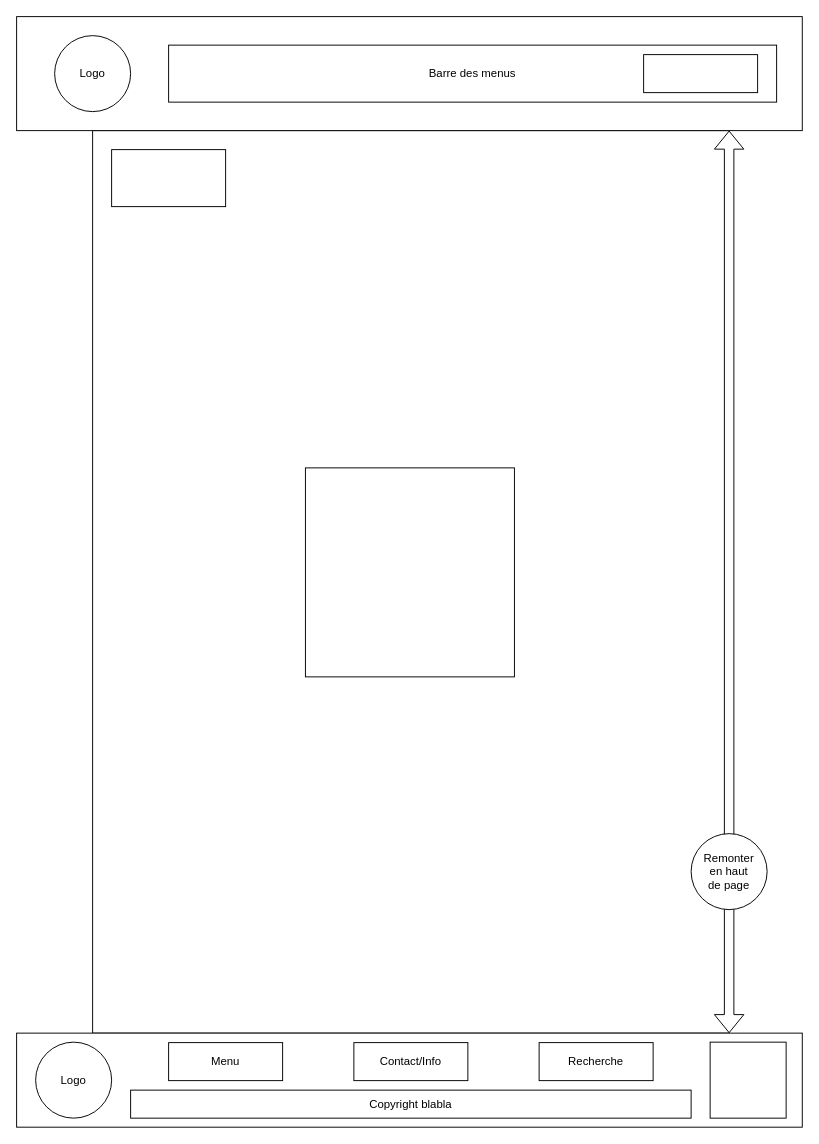
This 819x1144 diagram has some shape labels left out. The centre of each missing label's shape, as x and y in pixels:
"Barre de recherche" goes at [700,73].
"Contenu en fonction de la page" goes at [409,572].
"Mon Profil" goes at [747,1079].
"Titre de menu" goes at [168,178].
